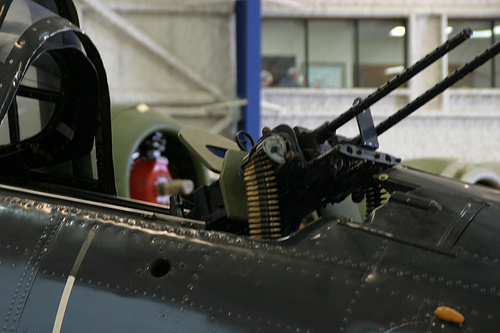rifle: (19, 27, 493, 288)
